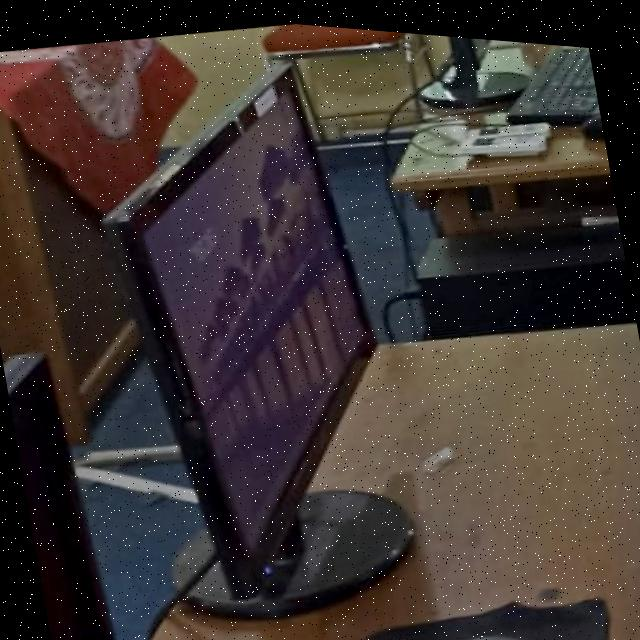onscreen: (144, 61, 372, 547)
